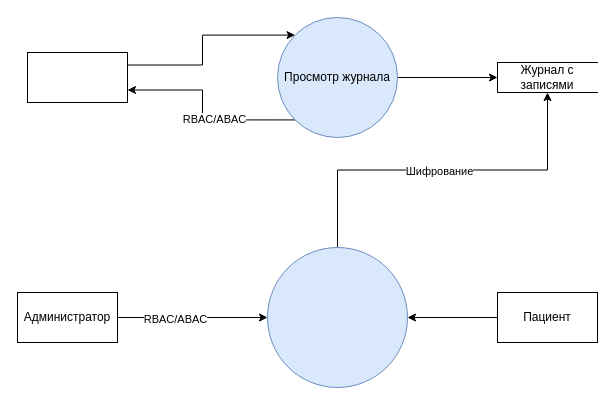
Image size: 615x405. Some labels were removed from this diagram. Here are the shapes that lost their labels. From the top down, the centre of each, then its label:
At point 77,77: "Доктор".
At point 337,317: "Запись к специалисту".
